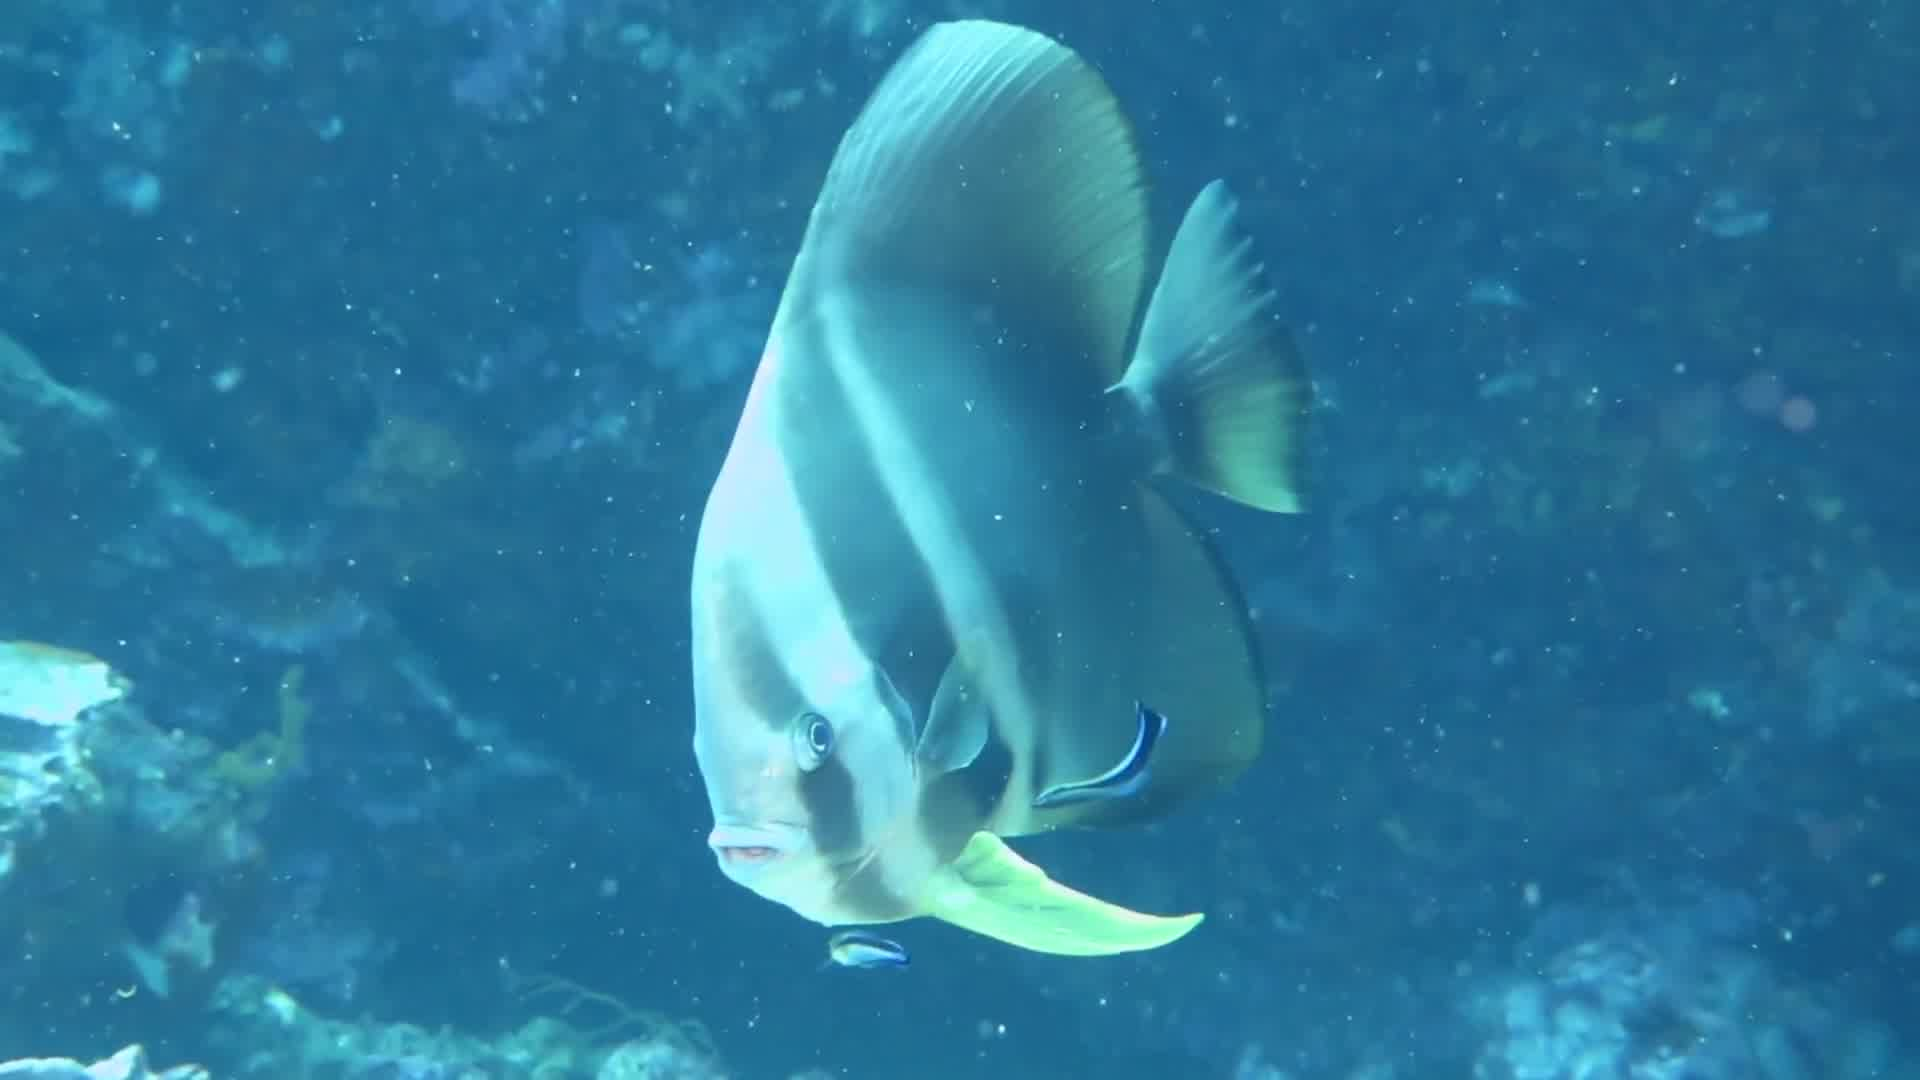Platax teira: (554, 3, 1510, 1069)
